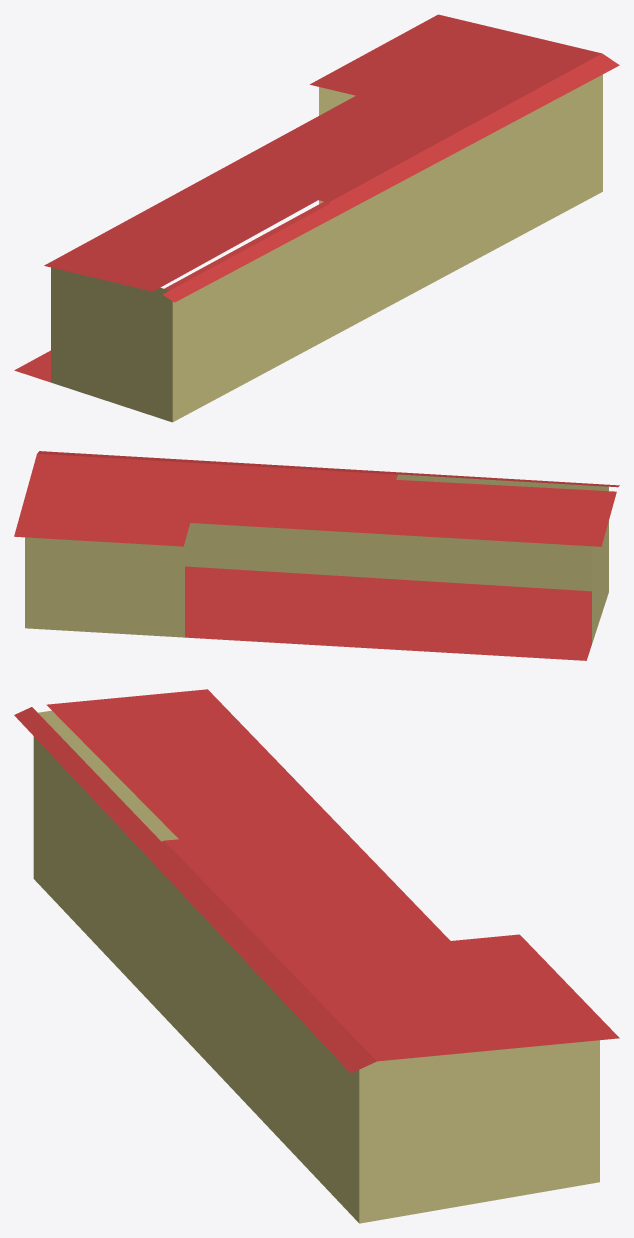
The picture shows the model from 3 angles, top to bottom: view 1: azimuth 30°, elevation 25°; view 2: azimuth 150°, elevation 25°; view 3: azimuth 270°, elevation 25°; orthographic projection. The views are drawn at different scales.
Size of the model in its own units: 45.85 by 29.83 by 9.02.
